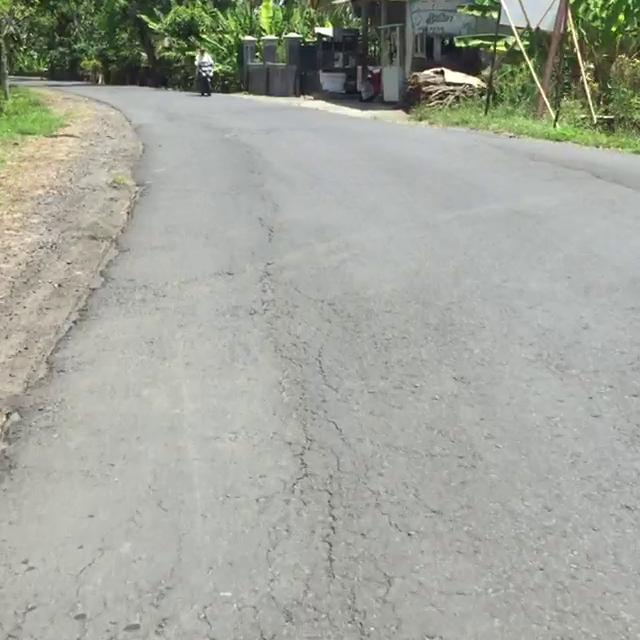retak_kulit_buaya: (251, 240, 359, 594)
